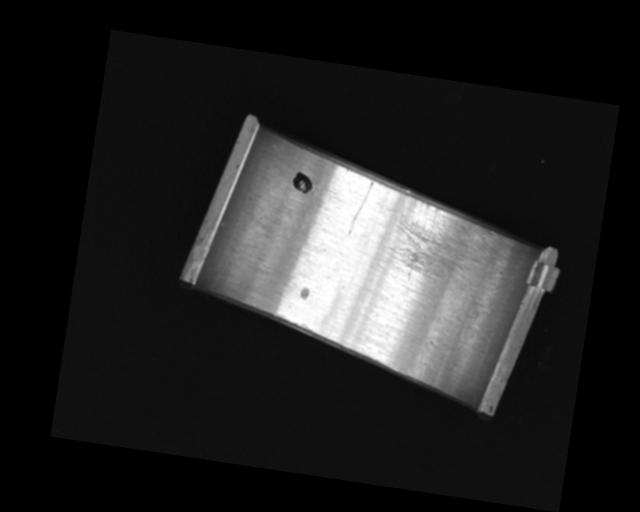blot: (290, 170, 316, 194)
bruise: (299, 285, 310, 301)
nick: (210, 209, 266, 297), (345, 178, 374, 239)
scratch: (386, 191, 501, 290)
